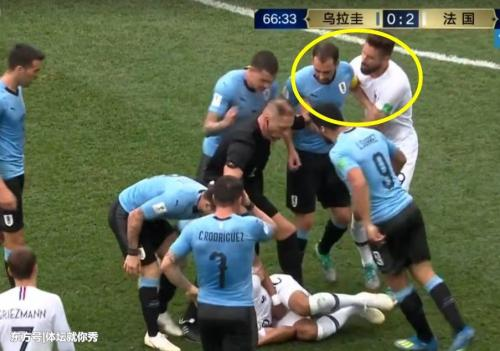fall: (206, 257, 403, 349)
